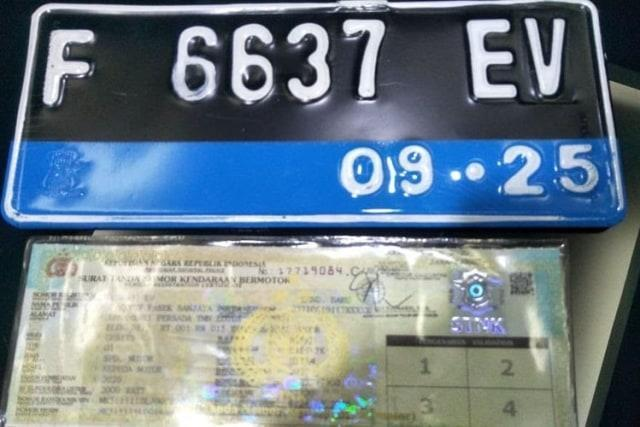3: (279, 17, 336, 106)
6: (168, 20, 225, 103), (224, 18, 279, 102)
7: (336, 14, 393, 104)
E: (459, 13, 522, 104)
F: (41, 23, 108, 114)
V: (522, 14, 578, 98)
